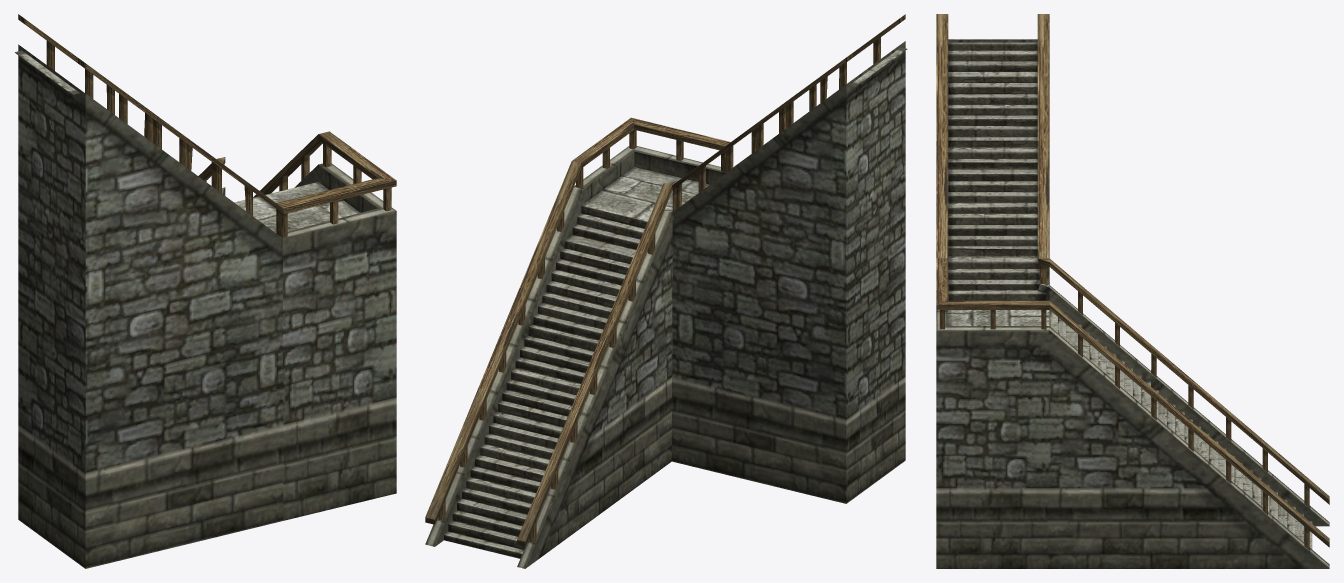
The model's file is general_obj_watchtower02.fbx.
3 views of the same model, side by side, from view 1: azimuth 30°, elevation 25°; view 2: azimuth 150°, elevation 25°; view 3: azimuth 270°, elevation 25° (orthographic). The views are drawn at different scales.
Parts seen in each view (by area): view 1: general_obj_watchtower02; view 2: general_obj_watchtower02; view 3: general_obj_watchtower02.
Part boxes in pixels (left/top/right/bottom): general_obj_watchtower02: left=15, top=14, right=396, bottom=568; general_obj_watchtower02: left=425, top=14, right=907, bottom=568; general_obj_watchtower02: left=936, top=14, right=1329, bottom=568.
Bounding box in the file's own units: 7.99 × 12.12 × 10.12.
